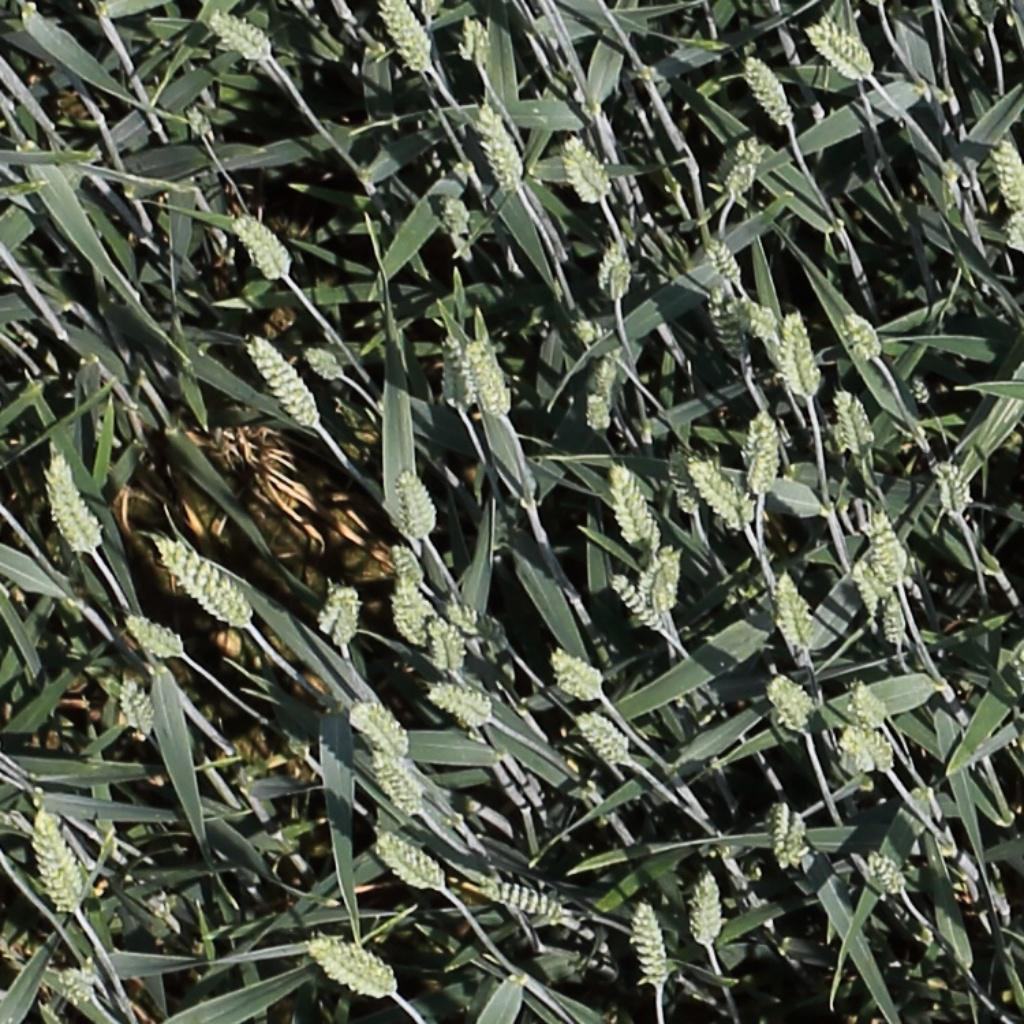0-0: (155, 536, 257, 627), (244, 330, 322, 432), (32, 812, 100, 923), (46, 453, 102, 555), (686, 456, 755, 533), (608, 458, 659, 557), (742, 47, 801, 132), (476, 107, 525, 204), (232, 208, 294, 282), (368, 746, 427, 823), (378, 0, 435, 78), (309, 940, 393, 992), (778, 307, 828, 392), (375, 835, 447, 892), (808, 20, 876, 80), (562, 129, 617, 203), (469, 337, 514, 427), (613, 570, 672, 637), (348, 700, 410, 763), (866, 506, 913, 587), (776, 567, 817, 655), (741, 412, 785, 494), (629, 892, 665, 992), (710, 284, 753, 367), (395, 464, 438, 544), (393, 570, 432, 656), (767, 673, 817, 740), (723, 129, 767, 203), (476, 882, 565, 918), (835, 383, 875, 462), (640, 543, 686, 611), (445, 600, 510, 647), (208, 10, 271, 58), (548, 649, 607, 700), (669, 442, 705, 524), (701, 230, 750, 290), (116, 671, 155, 746), (122, 614, 187, 659), (687, 865, 722, 948), (850, 557, 892, 625), (844, 728, 906, 774), (865, 849, 914, 906), (842, 307, 890, 364), (993, 131, 1024, 219), (577, 715, 633, 763), (772, 798, 805, 877), (427, 686, 495, 724), (855, 674, 900, 730), (323, 581, 361, 646), (387, 537, 430, 592), (446, 332, 473, 419), (738, 294, 786, 342), (428, 614, 460, 682), (595, 346, 631, 406), (598, 233, 629, 297), (461, 9, 491, 72), (883, 585, 910, 655), (936, 456, 965, 521), (181, 94, 218, 144), (606, 244, 633, 307), (905, 365, 940, 413), (584, 385, 614, 439), (55, 968, 97, 1004), (303, 345, 346, 379), (996, 205, 1024, 252), (440, 201, 474, 233)
